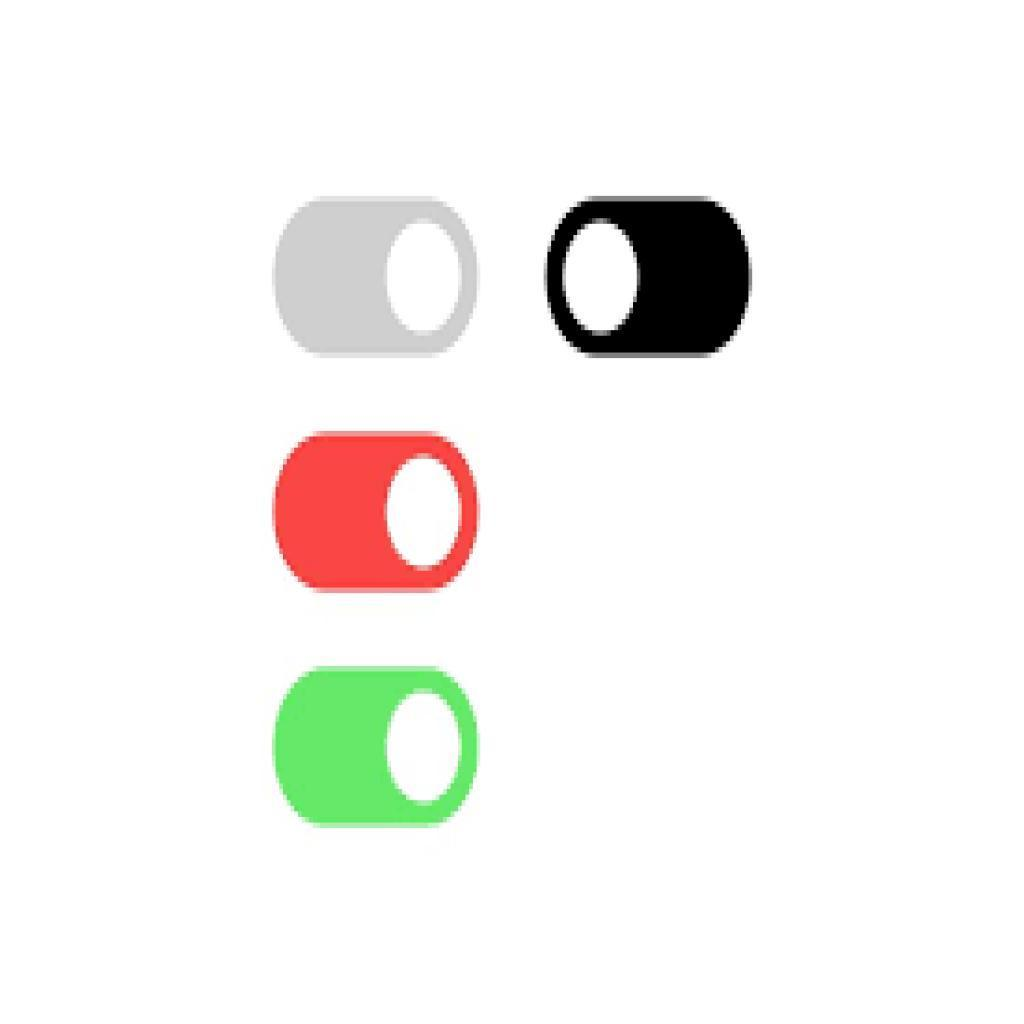switch: (272, 196, 480, 362), (272, 430, 481, 595), (547, 197, 752, 361), (279, 667, 482, 830)
